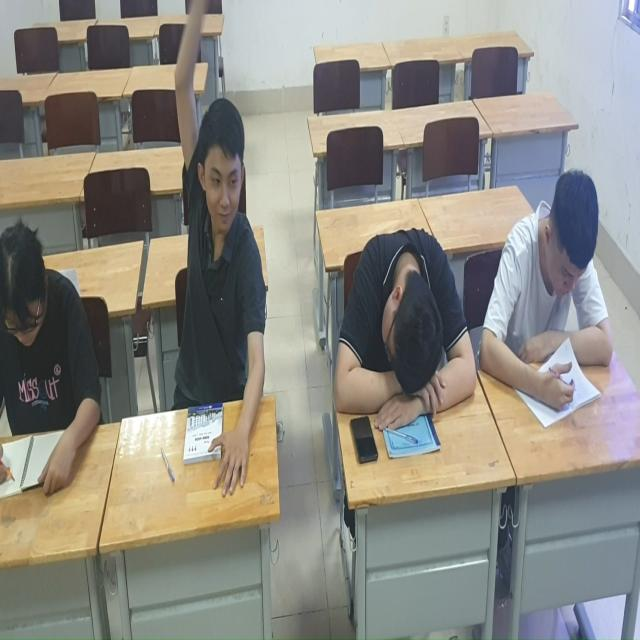raise_hand: (158, 1, 271, 487)
read: (479, 155, 633, 443), (1, 216, 108, 498)
sleep: (340, 206, 489, 435)
